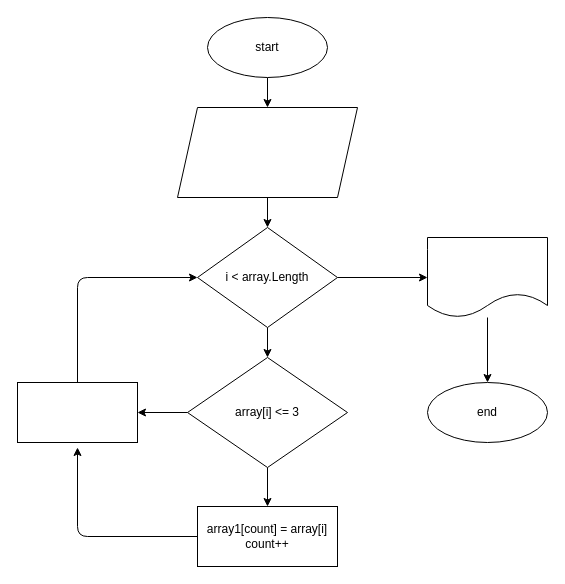
The diagram is 565 pixels wide and 584 high, and some of its shapes have lost their labels. The centre of each missing label's shape, as x and y in pixels:
"i = 0 count = 0 array [ ] = [ ... ] array1 [ ] = [array.Length]" goes at (x=267, y=152).
"i++" goes at (x=77, y=412).
"вывод array1" goes at (x=487, y=277).
